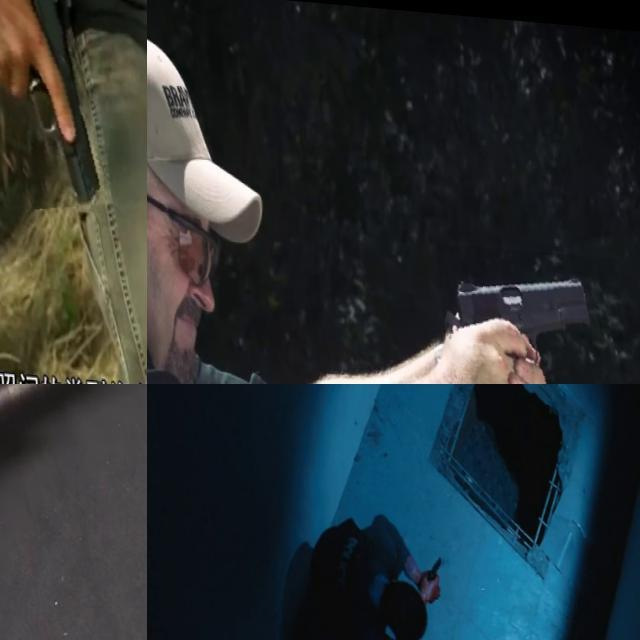gun-knife-thesis - v11 Yolov5 augmented: (0, 384, 147, 640), (433, 235, 625, 384), (0, 0, 98, 208), (411, 542, 446, 595)
